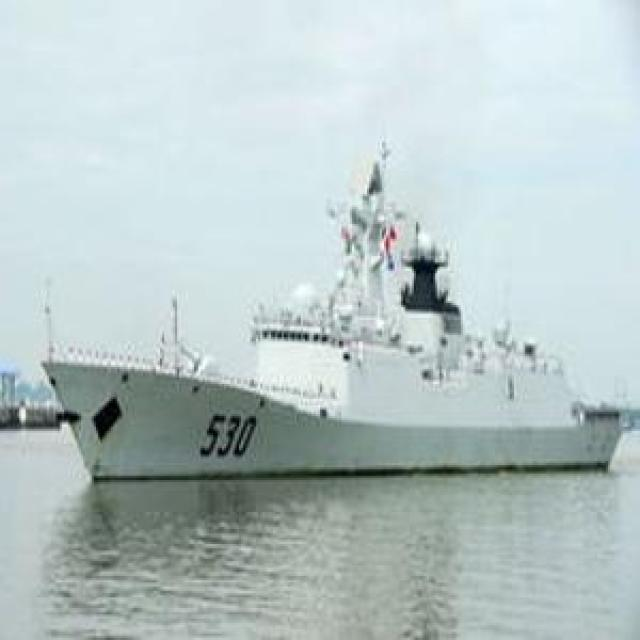navalvessels: (43, 148, 614, 487)
